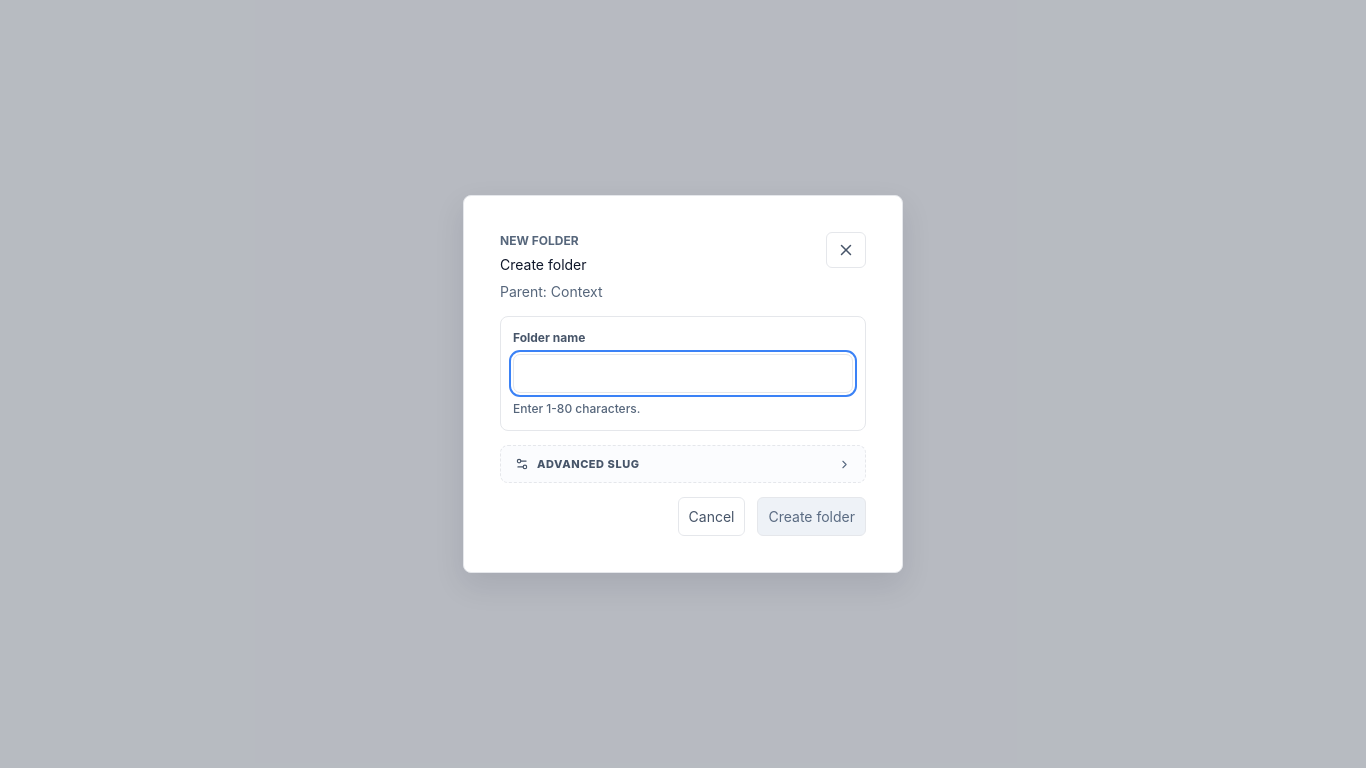
Test case: NewFolderDialog › shows duplicate slug errors in user-facing copy
In the field labelled "Folder name Enter 1-80 characters.": [683, 373] box [513, 354, 853, 393], type "Research"
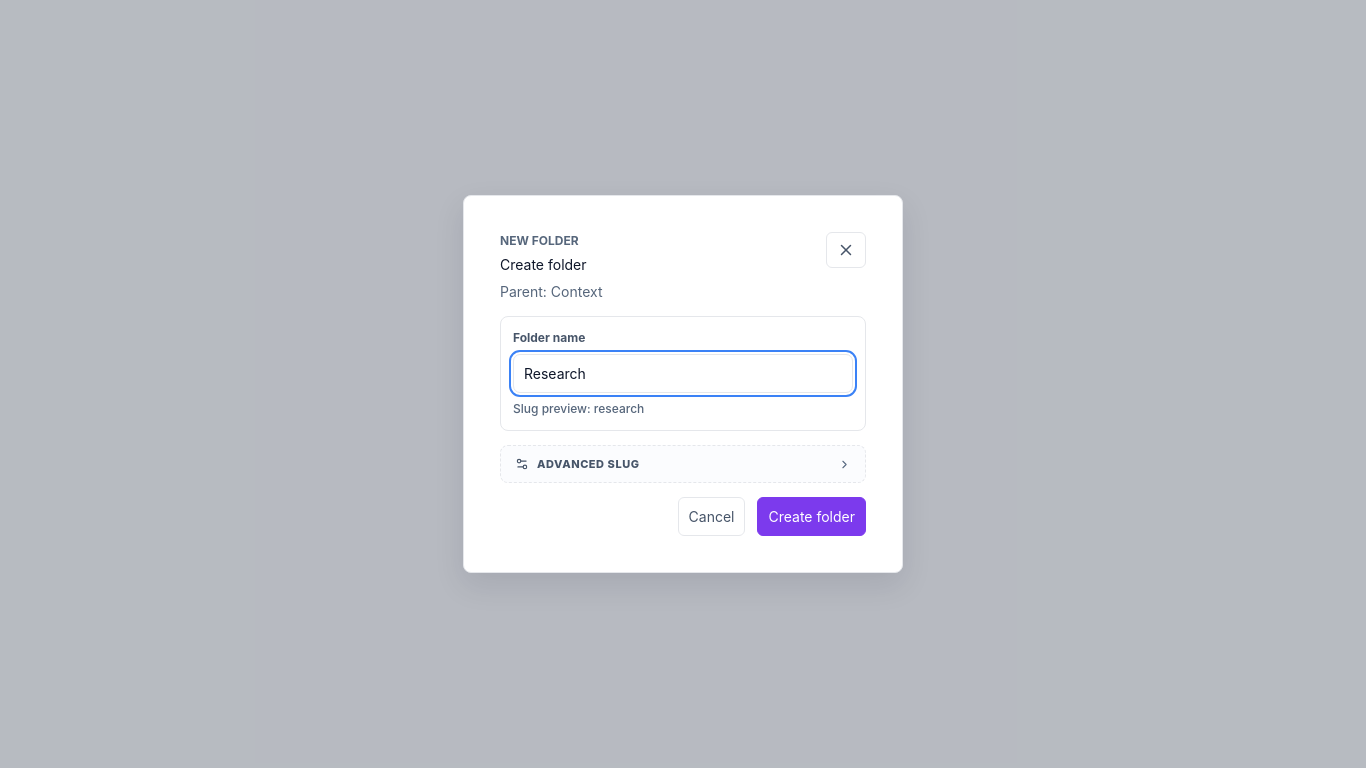
Click the button "Create folder": [812, 517] box [758, 497, 866, 536]
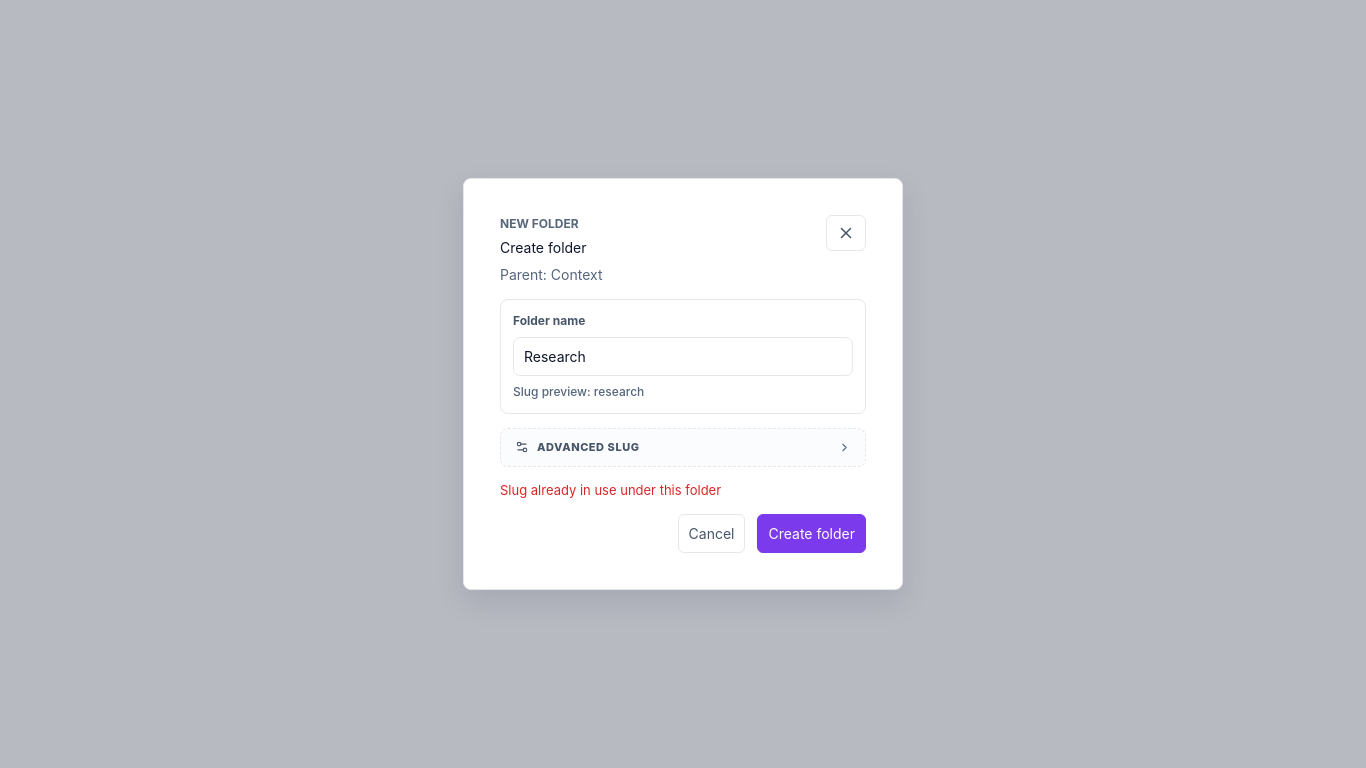
Check: the text "Slug already in use under this folder" is shown, box [500, 482, 721, 498]
